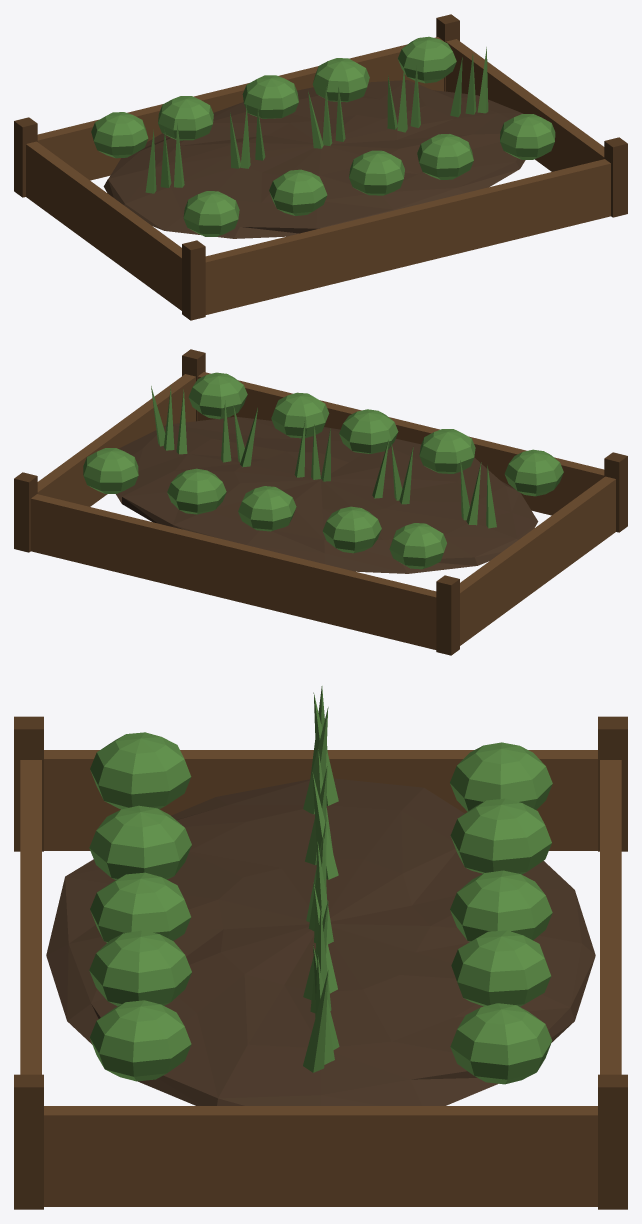
The model's file is garden-bed-b.glb.
The picture shows the model from 3 angles, top to bottom: view 1: azimuth 30°, elevation 25°; view 2: azimuth 150°, elevation 25°; view 3: azimuth 270°, elevation 25°; orthographic projection. The views are drawn at different scales.
Parts seen in each view (by area): view 1: Body_Wood, Body_Soil, Body_Plant, Body_WoodDark; view 2: Body_Wood, Body_Soil, Body_Plant, Body_WoodDark; view 3: Body_Soil, Body_Wood, Body_Plant, Body_WoodDark.
Boxes of the visible parts, left/top/right/bottom form: Body_Wood: left=26, top=37, right=610, bottom=314; Body_Soil: left=103, top=80, right=525, bottom=238; Body_Plant: left=91, top=36, right=555, bottom=236; Body_WoodDark: left=14, top=14, right=627, bottom=320; Body_Wood: left=31, top=372, right=615, bottom=649; Body_Soil: left=116, top=417, right=538, bottom=573; Body_Plant: left=83, top=372, right=563, bottom=569; Body_WoodDark: left=14, top=349, right=627, bottom=655; Body_Soil: left=46, top=778, right=595, bottom=1105; Body_Wood: left=20, top=750, right=621, bottom=1206; Body_Plant: left=89, top=686, right=552, bottom=1084; Body_WoodDark: left=14, top=716, right=627, bottom=1209.
Size of the model in its own units: 2 by 0.5 by 1.4.
